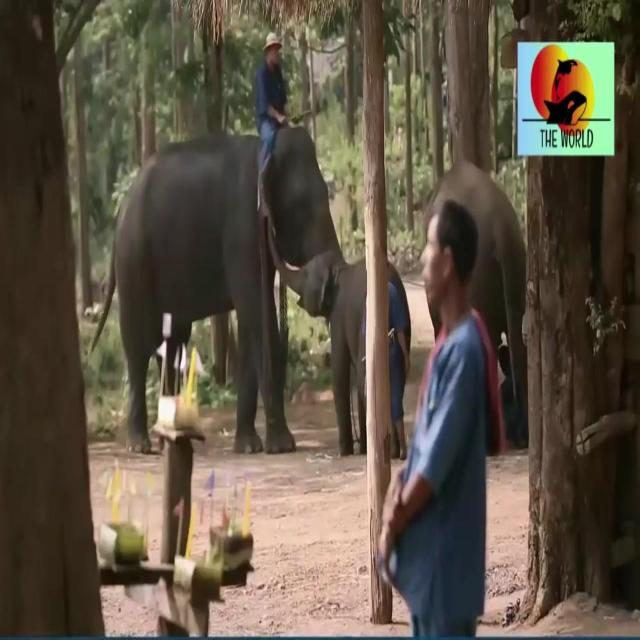Elephant: (127, 126, 333, 417), (446, 154, 530, 332), (302, 257, 364, 439)
